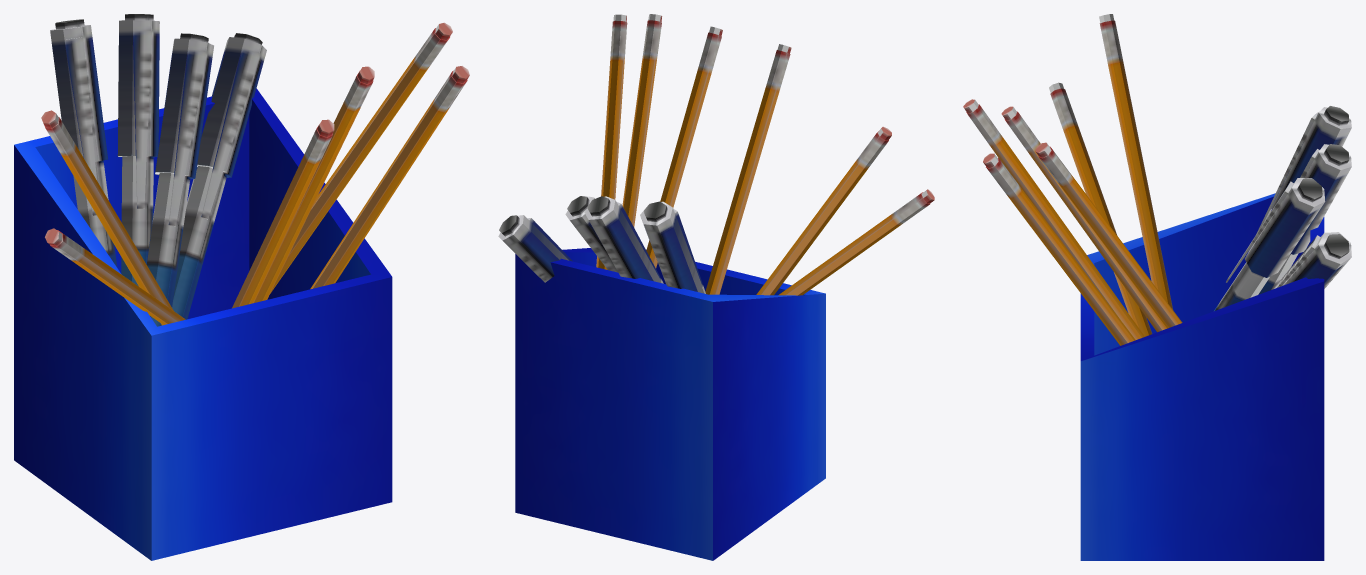
File: PencilHolder2.FBX
3 views of the same model, side by side, from view 1: azimuth 30°, elevation 25°; view 2: azimuth 150°, elevation 25°; view 3: azimuth 270°, elevation 25° (orthographic). The views are drawn at different scales.
Visible parts, largest first — view 1: PencilHolder2; view 2: PencilHolder2; view 3: PencilHolder2.
Part boxes in pixels (x1,y1,x2,y2): PencilHolder2: [14, 14, 469, 560]; PencilHolder2: [498, 14, 934, 560]; PencilHolder2: [963, 14, 1351, 560].
Bounding box in the file's own units: 15.4 × 18 × 14.74.
